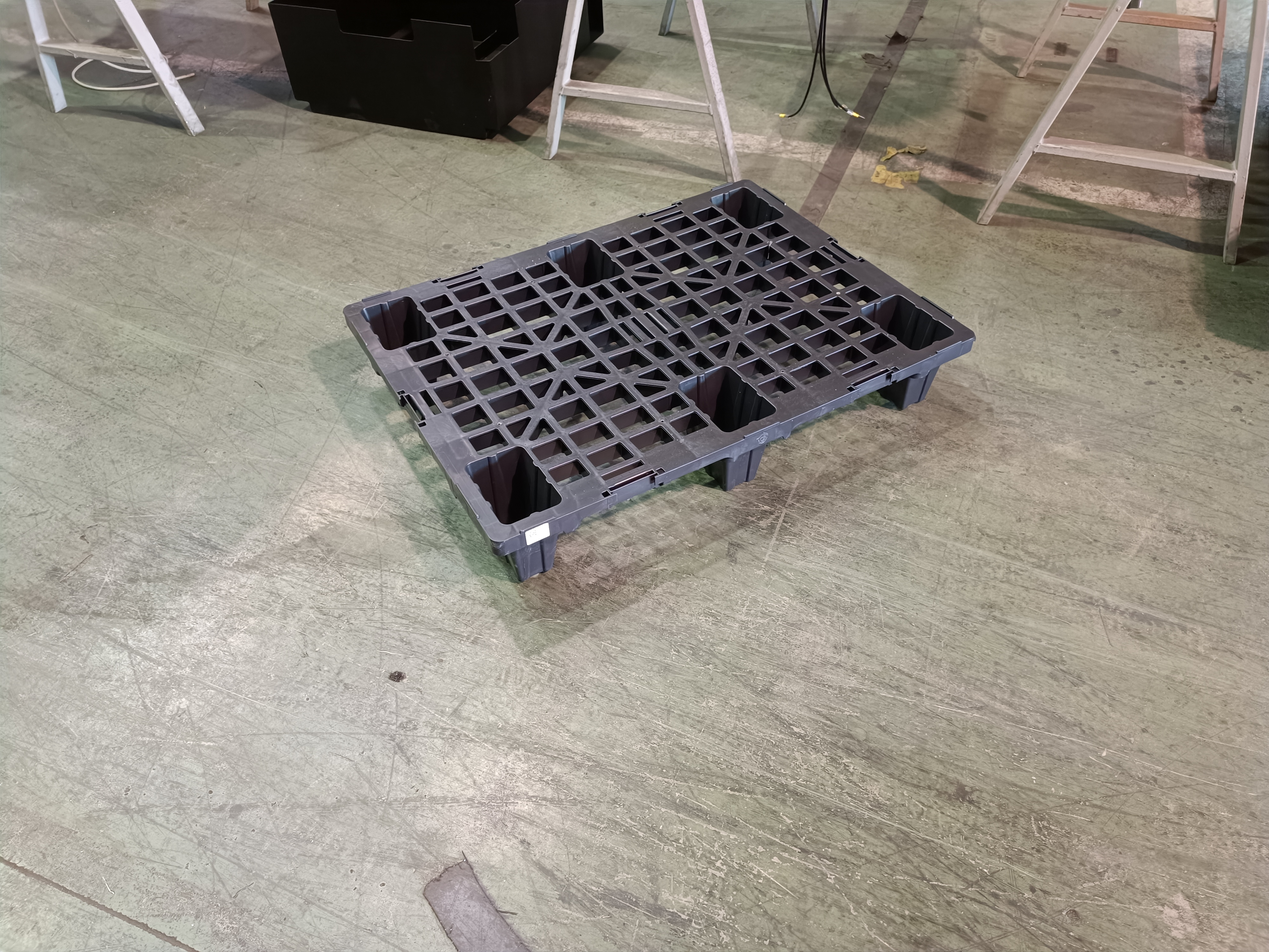block: (508, 520, 561, 586), (717, 433, 769, 490), (898, 353, 949, 410)
front: (495, 322, 981, 608)
hole pallet: (560, 461, 728, 570), (761, 374, 910, 486)
